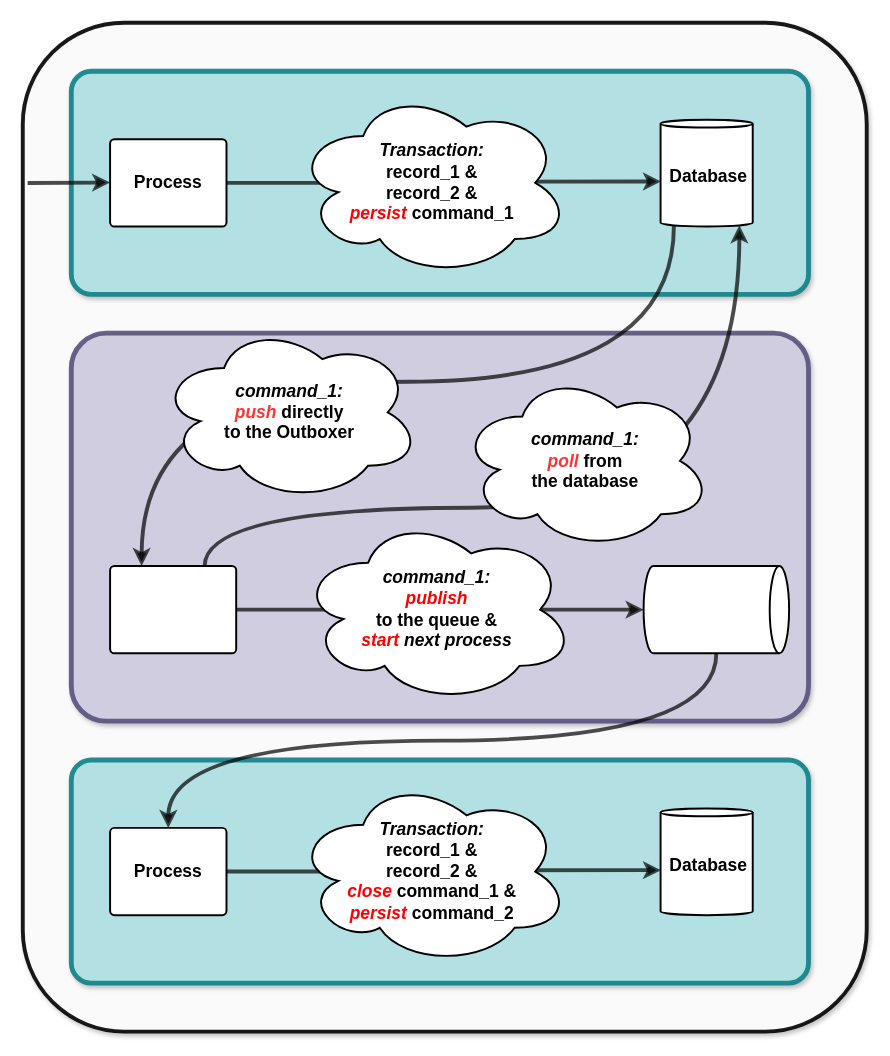
This 890x1056 diagram has some shape labels left out. Here are the shapes that lost their labels. From the top down, the centre of each, then its label:
(173,609): Outboxer
(716,609): Queue
